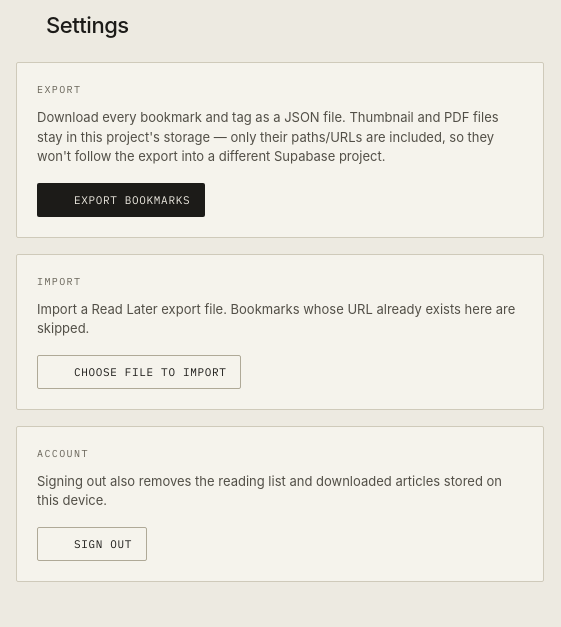
SettingsView › shows an error when export fails
Click the button with test id "export-btn" at coordinates (121, 200), box [37,182,205,216]
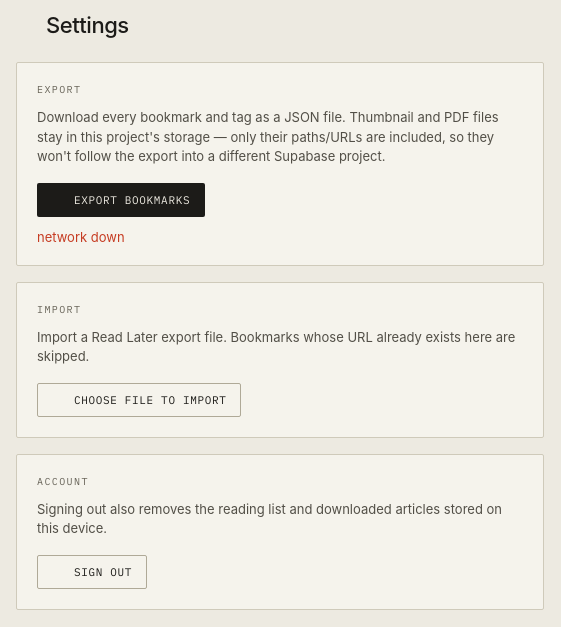
Expected: the message with test id "error" reads "network down", [37,228,125,244]
